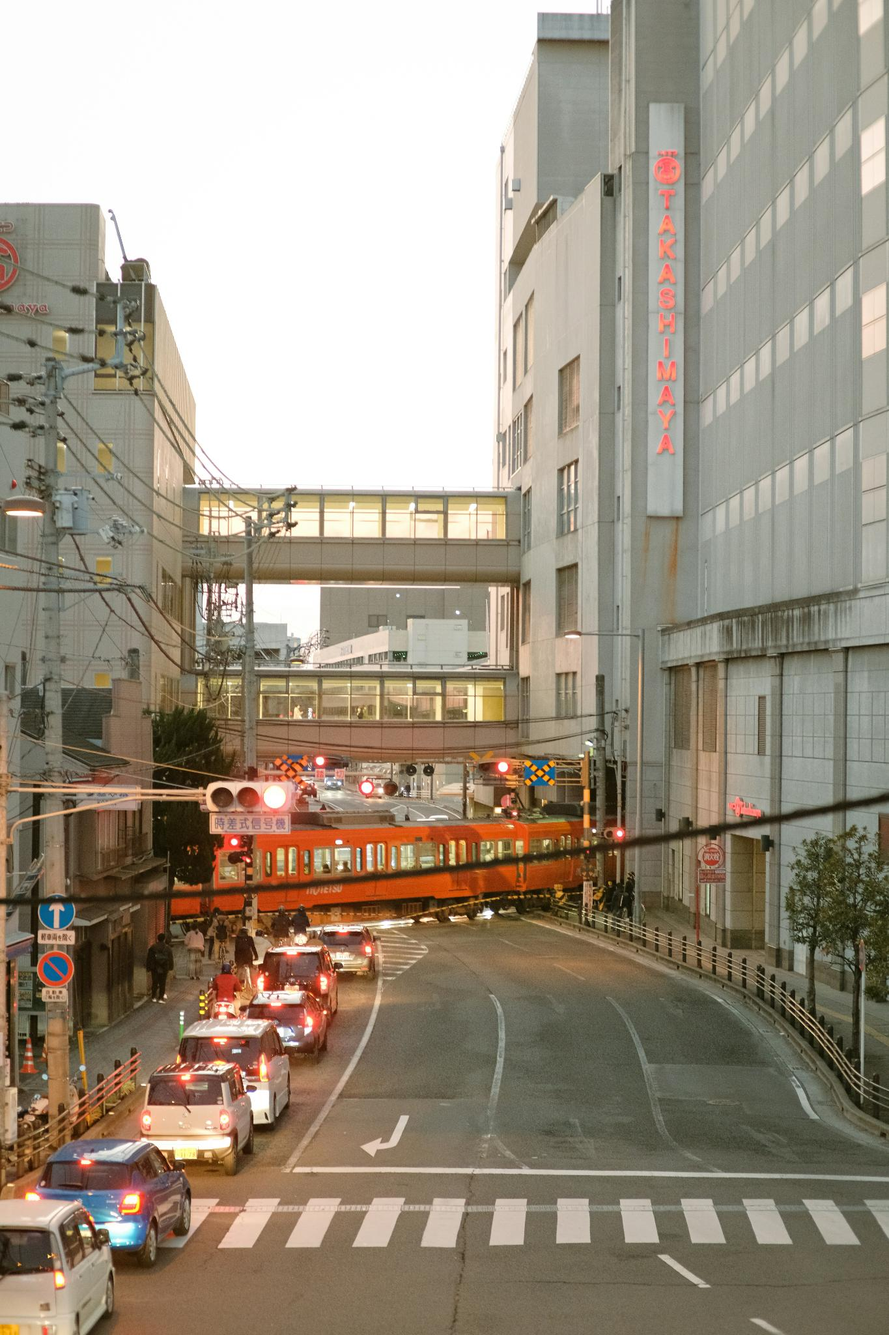stop_sign: (31, 938, 79, 999)
